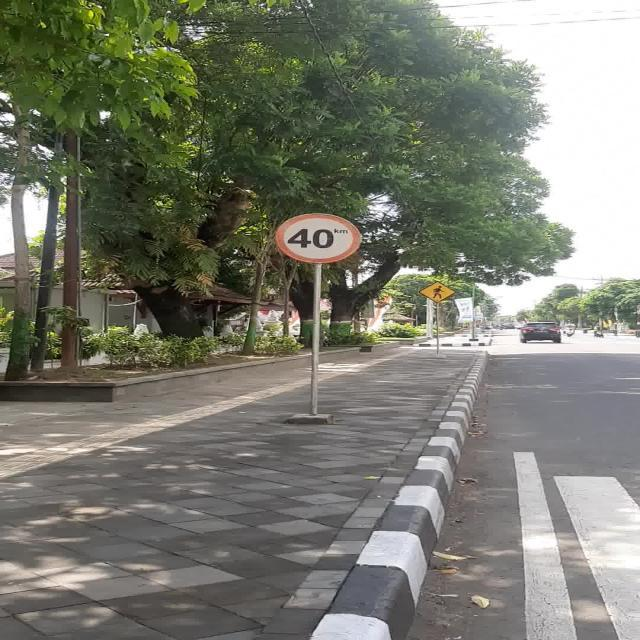Kecepatan Maks. 40 km: (274, 213, 362, 263)
